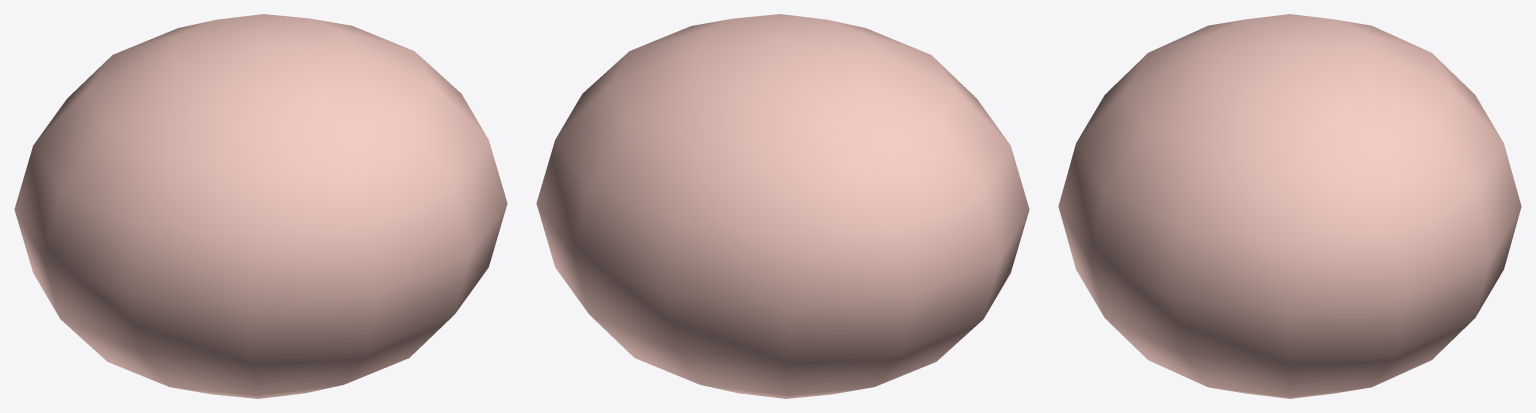
The model's file is noses-chibi-02.glb.
3 renders of one model, left to right at view 1: azimuth 30°, elevation 25°; view 2: azimuth 150°, elevation 25°; view 3: azimuth 270°, elevation 25°, orthographic.
Parts seen in each view (by area): view 1: part_0; view 2: part_0; view 3: part_0.
Boxes of the visible parts, x1=… form: part_0: x1=14, y1=14, x2=507, y2=398; part_0: x1=536, y1=14, x2=1029, y2=398; part_0: x1=1058, y1=14, x2=1521, y2=398.
Bounding box in the file's own units: 0.15 × 0.11 × 0.14.
